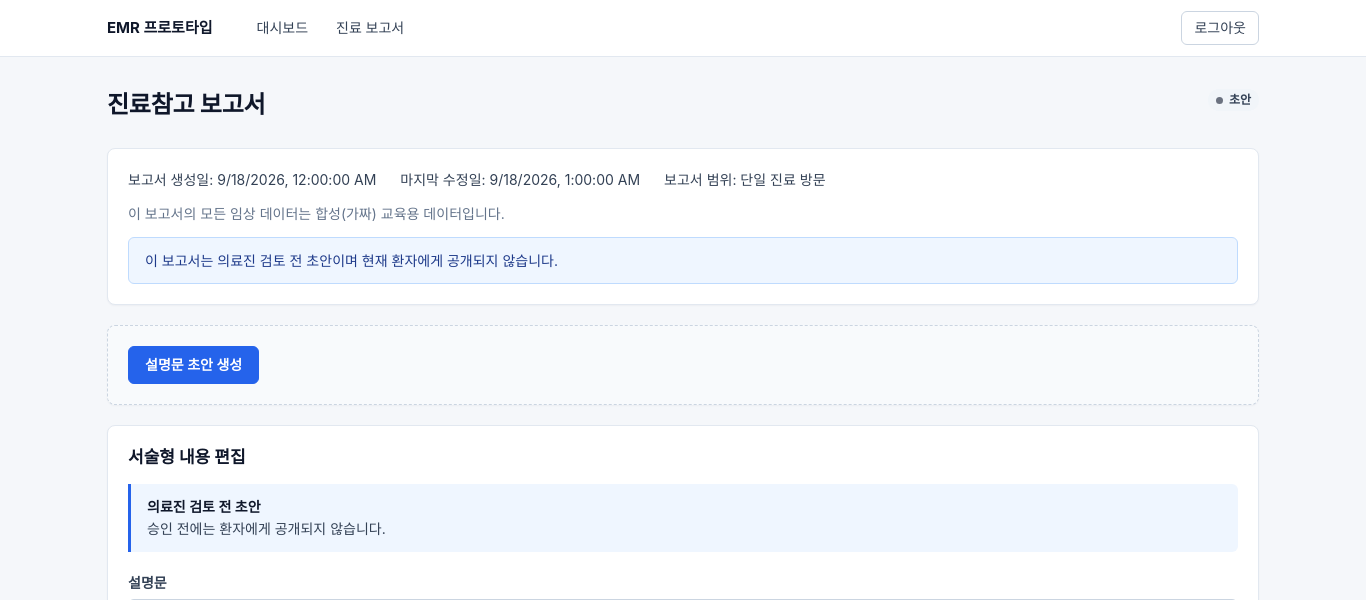
Test: ClinicalReportPreviewPage › shows the backend's validation-failure message plus a no-change reassurance on a 502
This screenshot has width=1366, height=600.
Click the button "설명문 초안 생성". click: (194, 365)
box: [128,346,259,384]
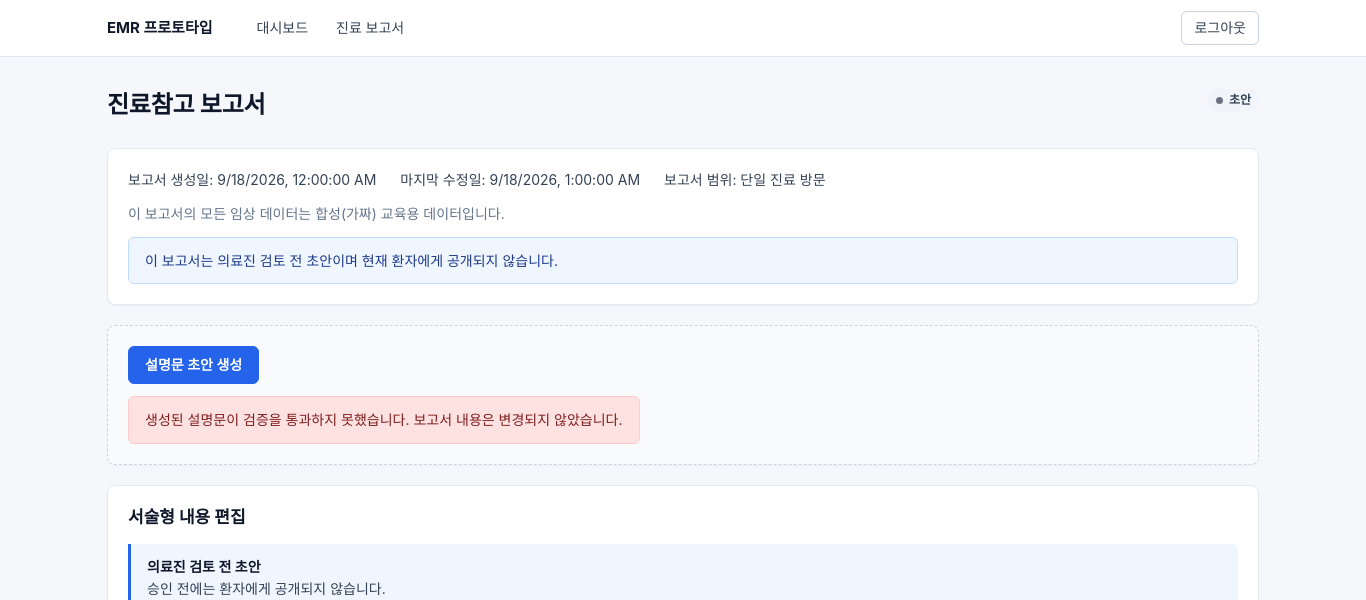
Expected: the message shows "생성된 설명문이 검증을 통과하지 못했습니다.", [145,411,622,428]
Expected: the message shows "보고서 내용은 변경되지 않았습니다.", [145,411,622,428]
